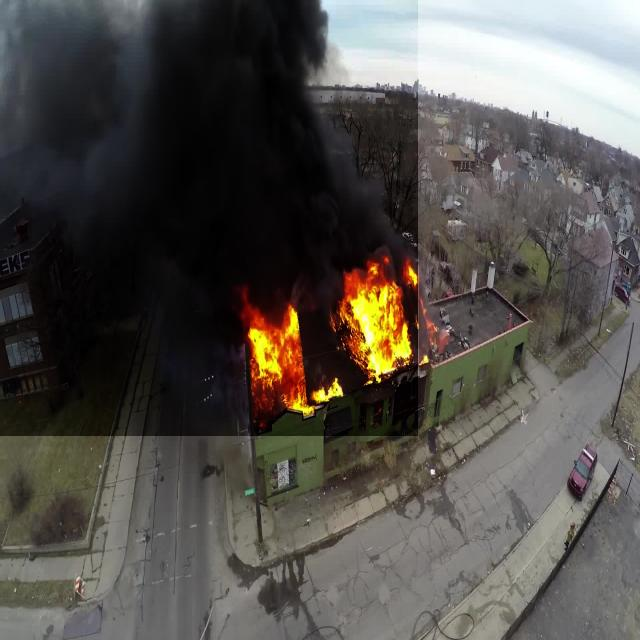Fire: (242, 288, 342, 427), (335, 264, 419, 378)
Smoke: (0, 0, 418, 436)
